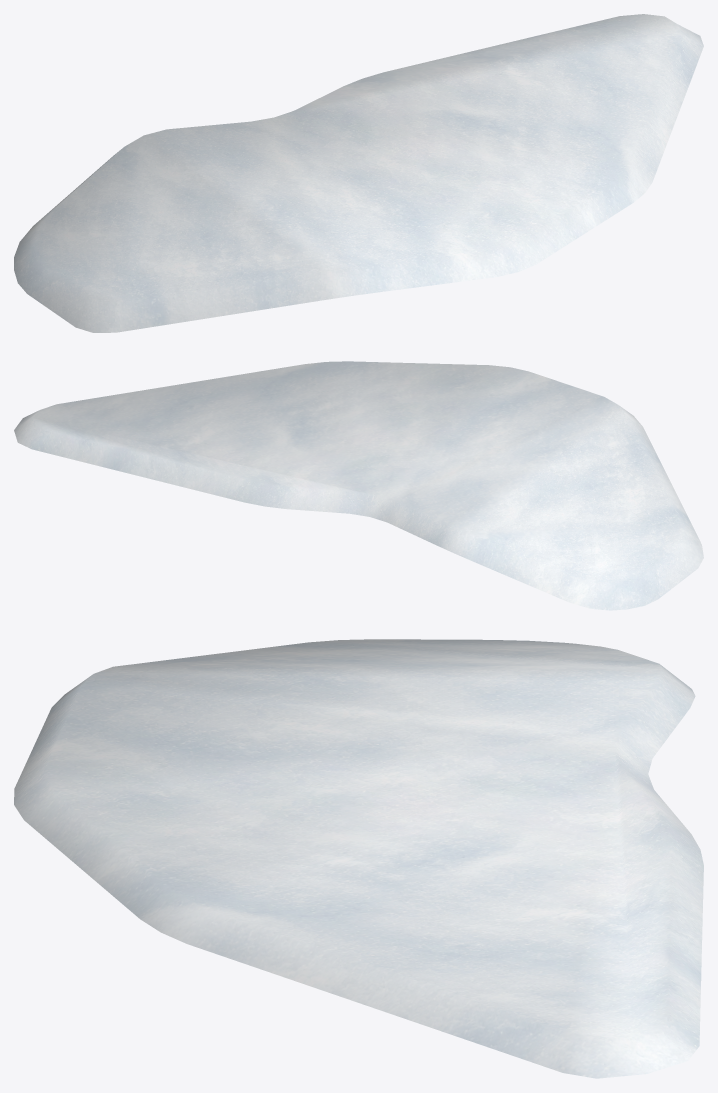
The model's file is Ice_04_Snow.fbx.
The picture shows the model from 3 angles, top to bottom: view 1: azimuth 30°, elevation 25°; view 2: azimuth 150°, elevation 25°; view 3: azimuth 270°, elevation 25°; orthographic projection. The views are drawn at different scales.
Parts seen in each view (by area): view 1: Ice_04_Snow; view 2: Ice_04_Snow; view 3: Ice_04_Snow.
Boxes of the visible parts, <box> form: Ice_04_Snow: <box>14,14,703,332</box>; Ice_04_Snow: <box>14,361,703,610</box>; Ice_04_Snow: <box>14,639,703,1078</box>.
Bounding box in the file's own units: 645 × 369 × 71.65.
